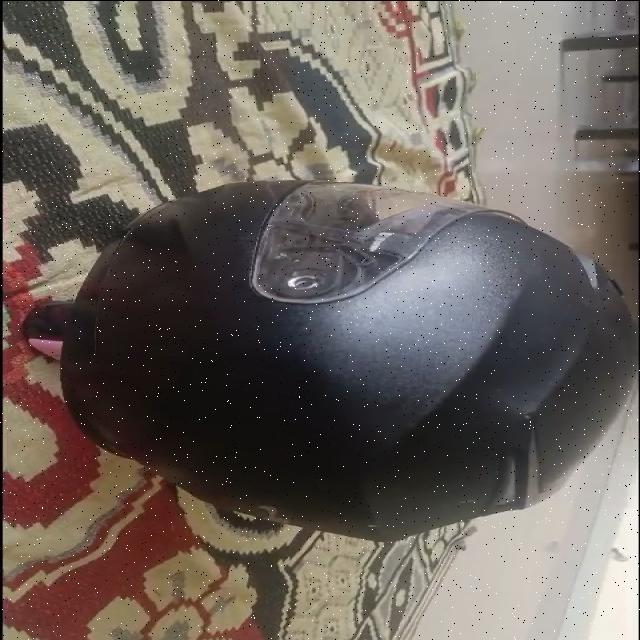Helmet: (21, 178, 633, 544)
